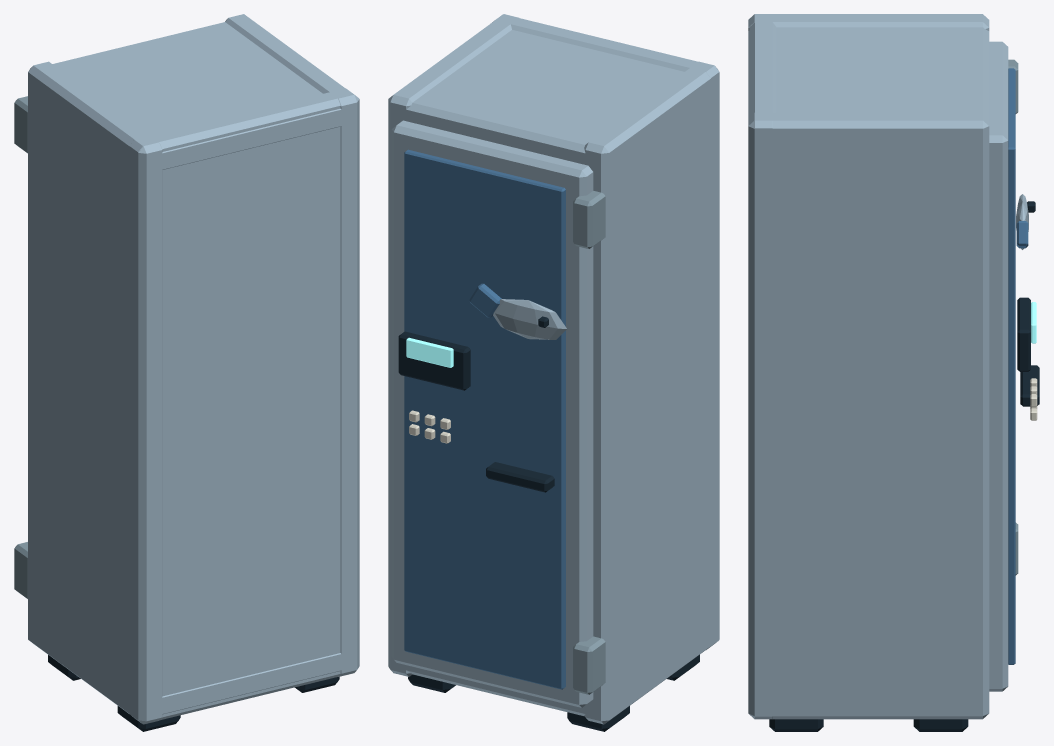
File: locker_safe.glb
3 views of the same model, side by side, from view 1: azimuth 30°, elevation 25°; view 2: azimuth 150°, elevation 25°; view 3: azimuth 270°, elevation 25° (orthographic). The views are drawn at different scales.
Parts seen in each view (by area): view 1: back, left, top, right, bottom, hinge (×2); view 2: inset, left, door_panel, top, back, right, bottom, hinge (×2), display, whale_badge, handle, screen (+2 smaller); view 3: right, top, door_panel, back, inset, bottom, left, foot (×2), display, handle.
Boxes of the visible parts, <box> form: back: <box>129,88,358,723</box>; left: <box>28,61,162,724</box>; top: <box>28,22,359,173</box>; right: <box>225,14,359,676</box>; bottom: <box>28,620,359,717</box>; hinge (×2): <box>14,96,27,598</box>; inset: <box>404,149,565,689</box>; left: <box>584,61,719,724</box>; door_panel: <box>391,120,593,707</box>; top: <box>388,30,719,173</box>; back: <box>492,14,719,649</box>; right: <box>388,14,518,676</box>; bottom: <box>388,620,719,717</box>; hinge (×2): <box>573,191,605,694</box>; display: <box>398,331,470,390</box>; whale_badge: <box>493,299,566,339</box>; handle: <box>486,462,554,492</box>; screen: <box>406,337,453,367</box>; right: <box>748,112,989,719</box>; top: <box>748,27,989,149</box>; door_panel: <box>989,41,1008,691</box>; back: <box>749,14,776,719</box>; inset: <box>1008,68,1015,664</box>; bottom: <box>748,694,989,712</box>; left: <box>748,14,989,30</box>; foot (×2): <box>769,719,968,731</box>; display: <box>1017,297,1030,371</box>; handle: <box>1020,365,1039,406</box>.
Bounding box in the file's own units: 0.68 × 1.75 × 0.75.
